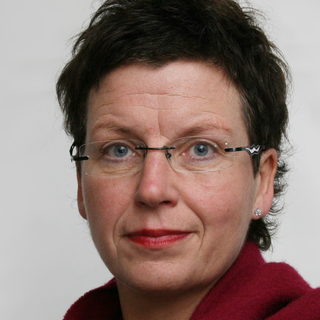eye: (176, 136, 230, 166), (99, 141, 144, 169)
